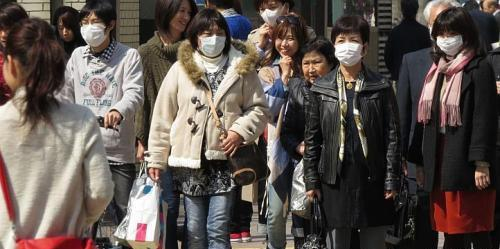NONE: (303, 58, 330, 84), (276, 33, 299, 59), (171, 8, 195, 32), (61, 23, 77, 44)
OK: (336, 33, 365, 67), (197, 29, 229, 58), (82, 15, 110, 48), (437, 32, 465, 57), (261, 4, 290, 28)
